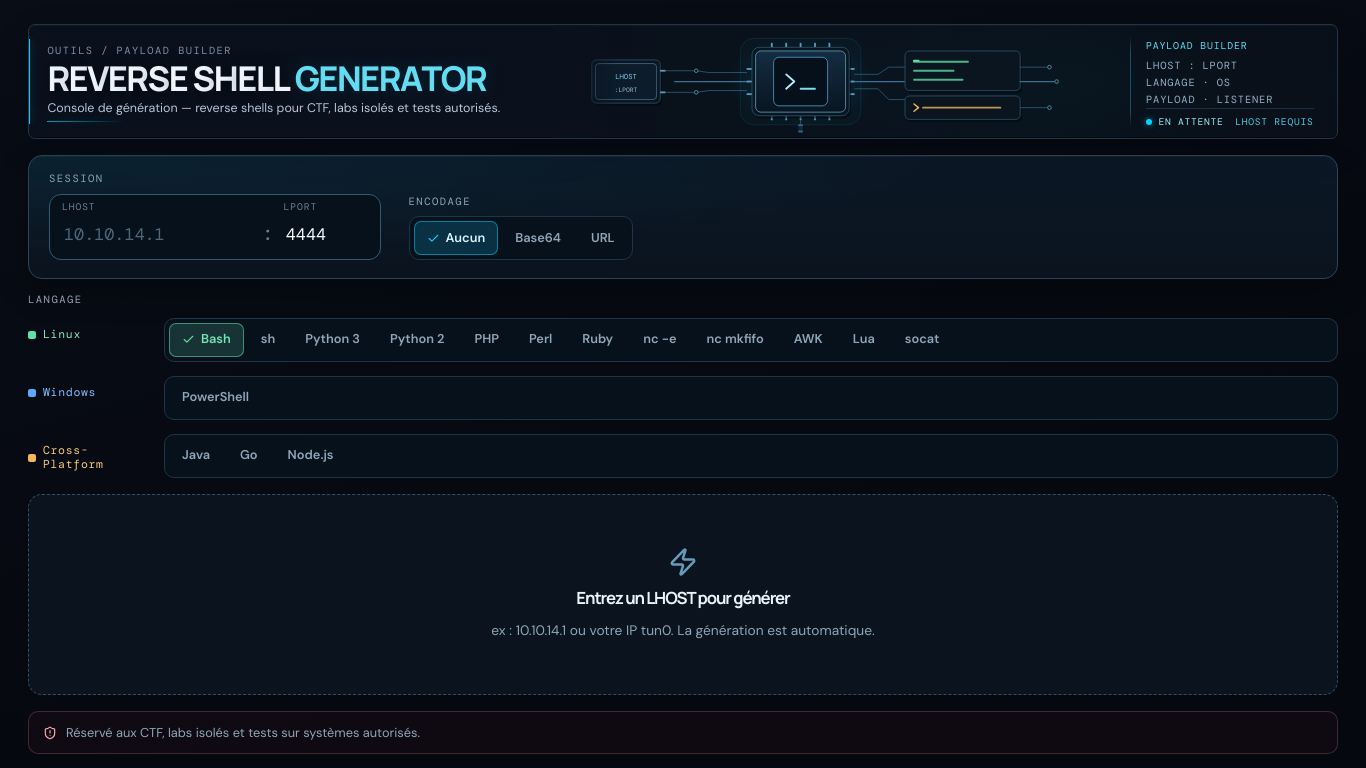
Scenario: Reverse Shell Generator request state › does not restore an old result after LHOST is cleared during a request
The width and height of the screenshot is (1366, 768).
In the field labelled "LHOST": (157, 234) [62,216,252,252], type "10.0.0.1"
Wait 300 ms
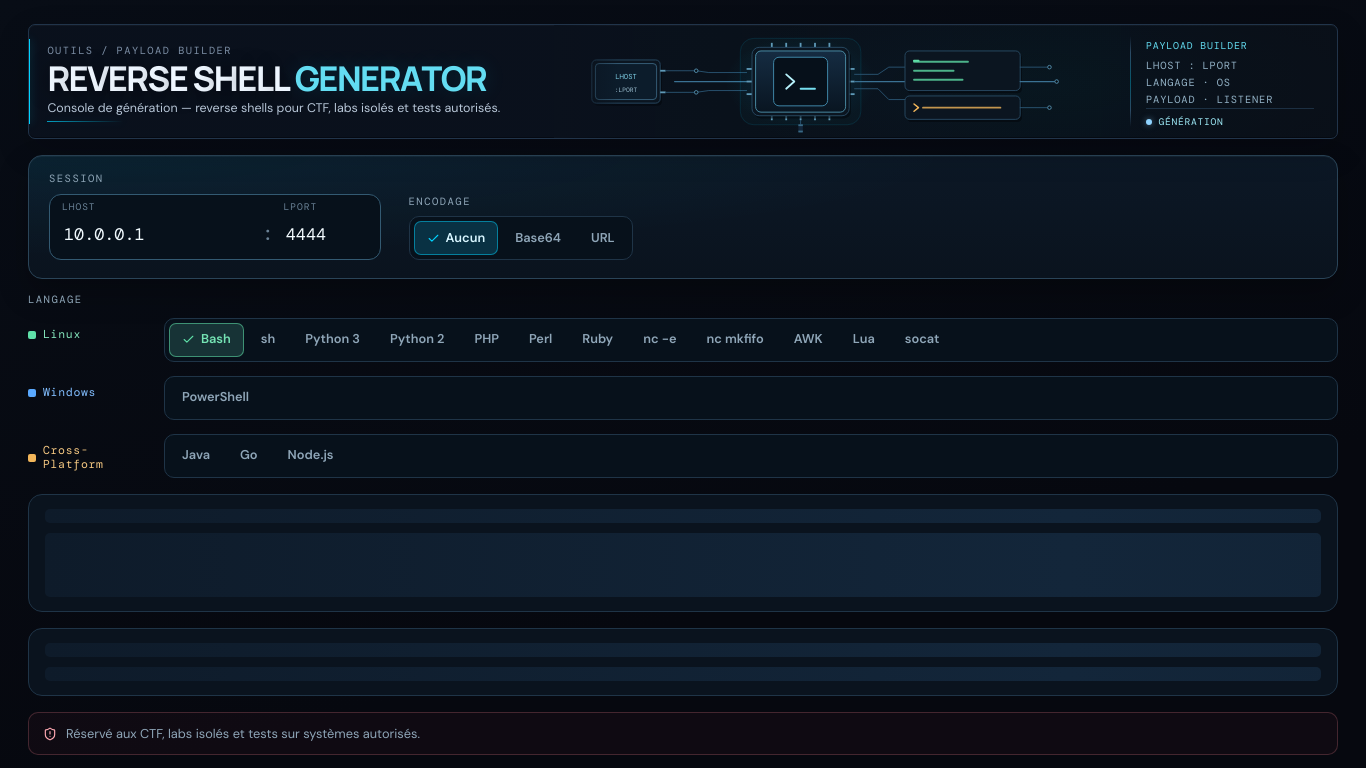
Clear the field labelled "LHOST": (157, 234) [62,216,252,252]
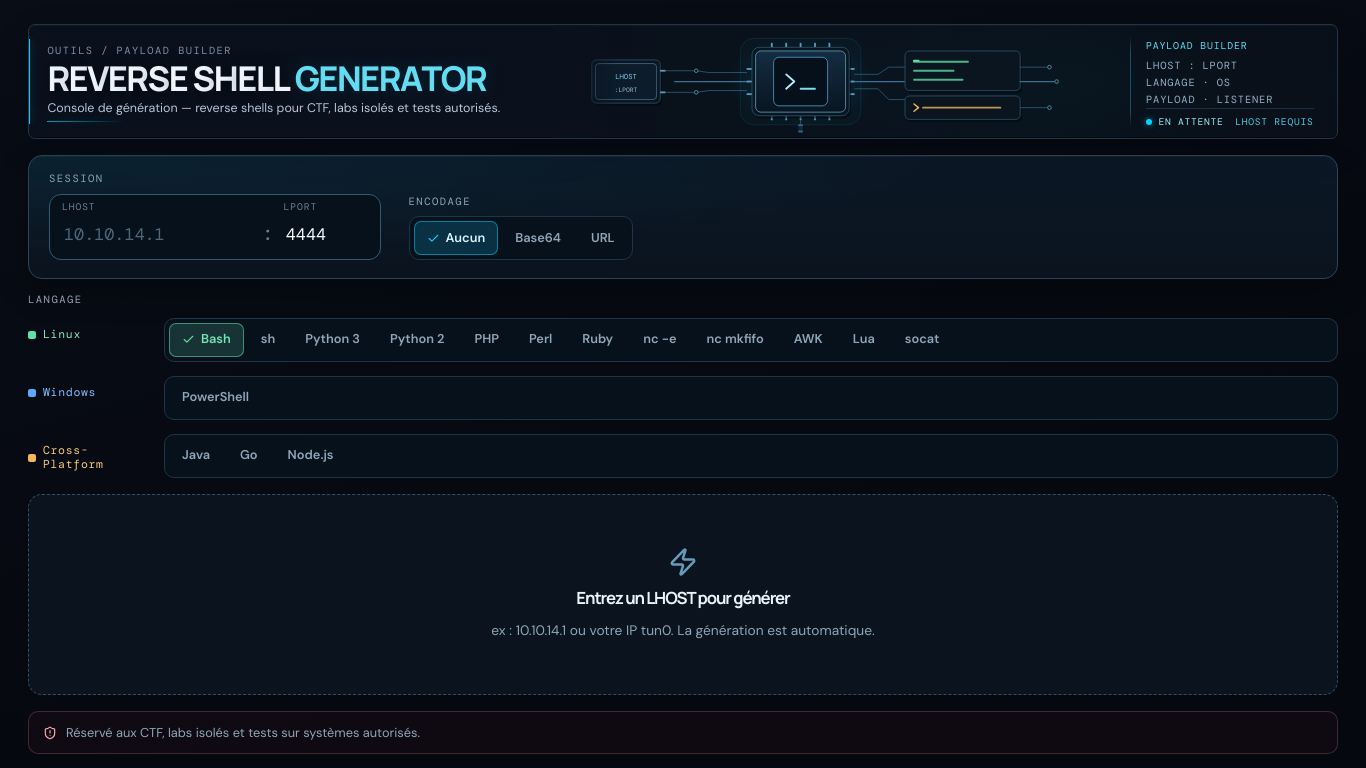
Result: the heading "Entrez un LHOST pour générer" is shown at [576,587,790,609]
